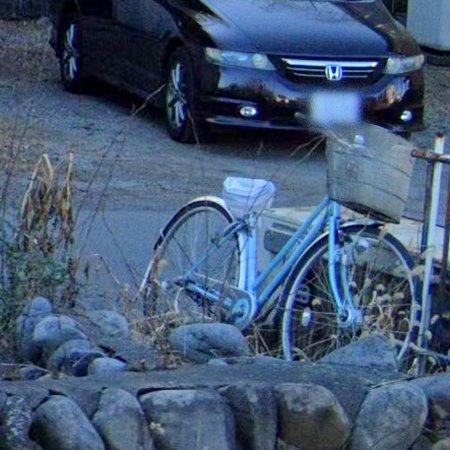bicycles: (141, 124, 420, 362)
